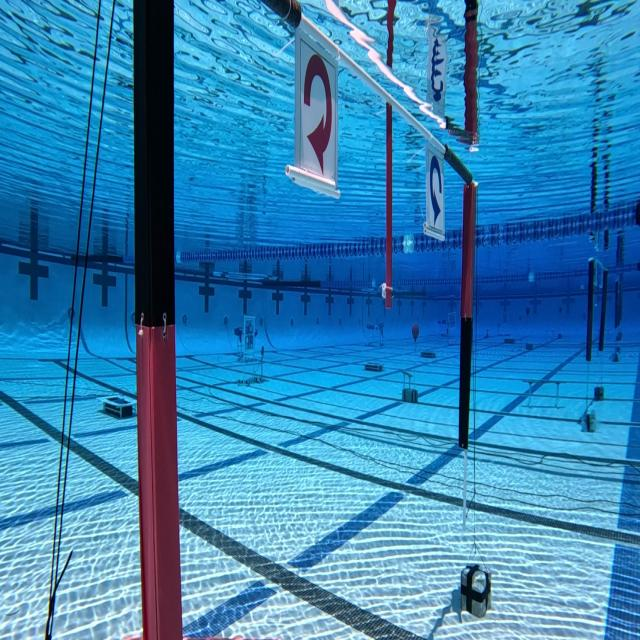blue_side: (420, 138, 452, 242)
red_side: (292, 28, 346, 204)
